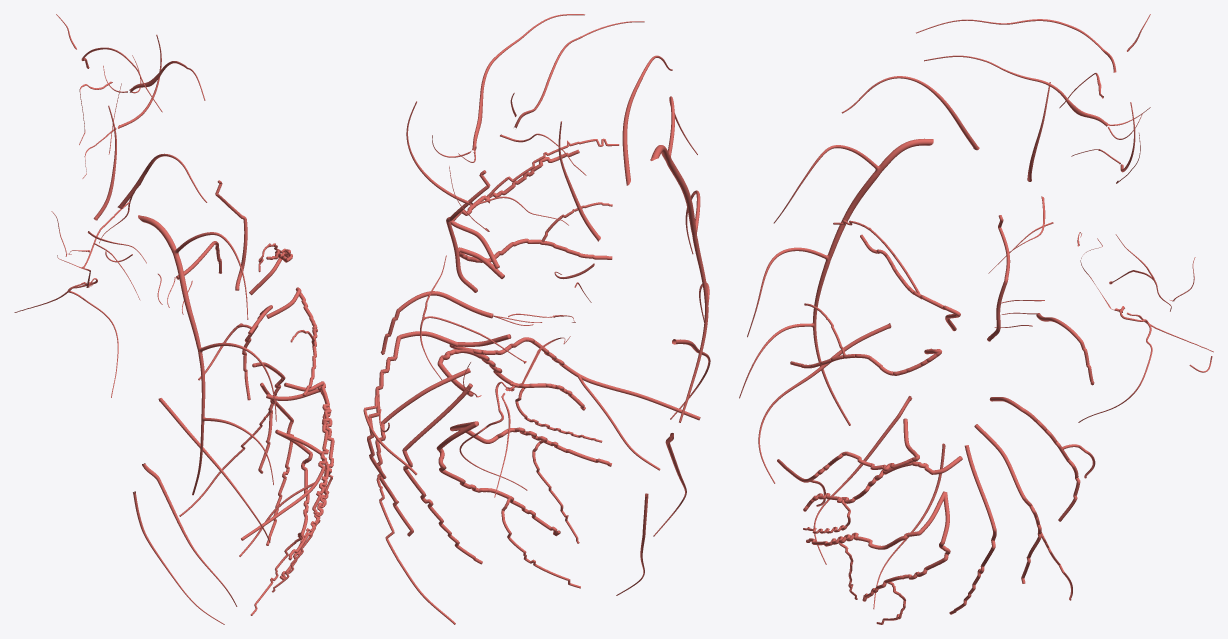
3 views of the same model, side by side, from view 1: azimuth 30°, elevation 25°; view 2: azimuth 150°, elevation 25°; view 3: azimuth 270°, elevation 25° (orthographic). The views are drawn at different scales.
Visible parts, largest first — view 1: Callosomarginal right, Central right, Anterior parietal right, Precentral right, Temporo-occipital right, Angular right, Paracentral right, Posterior parietal right, Posterior temporal right, Precuneal right, MCA orbitofrontal right, ACA frontopolar right (+1 smaller); view 2: Callosomarginal right, Central right, Temporo-occipital right, Anterior parietal right, Angular right, Middle temporal right, Prefrontal right, Precentral right, Posterior temporal right, Posterior parietal right, Anterior temporal right, ACA frontopolar right (+5 smaller); view 3: Callosomarginal right, Central right, Posterior parietal right, Anterior parietal right, Temporo-occipital right, Precentral right, Angular right, Posterior temporal right, Middle temporal right, Paracentral right, Prefrontal right, ACA frontopolar right.
Part boxes in pixels (<box>): Callosomarginal right: <box>138,215,205,495</box>; Central right: <box>241,381,331,540</box>; Anterior parietal right: <box>266,386,334,514</box>; Precentral right: <box>266,287,317,396</box>; Temporo-occipital right: <box>260,382,293,545</box>; Angular right: <box>275,430,312,579</box>; Paracentral right: <box>158,398,270,542</box>; Posterior parietal right: <box>276,429,329,560</box>; Posterior temporal right: <box>252,362,285,473</box>; Precuneal right: <box>142,463,237,606</box>; MCA orbitofrontal right: <box>215,180,247,290</box>; ACA frontopolar right: <box>117,153,207,208</box>; Callosomarginal right: <box>650,145,708,422</box>; Central right: <box>449,334,700,420</box>; Temporo-occipital right: <box>402,383,482,564</box>; Anterior parietal right: <box>437,349,585,410</box>; Angular right: <box>436,422,560,536</box>; Middle temporal right: <box>367,331,458,478</box>; Prefrontal right: <box>450,149,579,268</box>; Precentral right: <box>458,238,612,278</box>; Posterior temporal right: <box>375,368,470,536</box>; Posterior parietal right: <box>450,421,611,466</box>; Anterior temporal right: <box>380,291,493,354</box>; ACA frontopolar right: <box>622,55,672,185</box>; Callosomarginal right: <box>812,138,933,425</box>; Central right: <box>777,418,919,482</box>; Posterior parietal right: <box>806,491,945,549</box>; Anterior parietal right: <box>803,456,962,511</box>; Temporo-occipital right: <box>949,445,996,614</box>; Precentral right: <box>790,348,941,375</box>; Angular right: <box>862,492,950,601</box>; Posterior temporal right: <box>974,424,1041,583</box>; Middle temporal right: <box>989,397,1080,521</box>; Paracentral right: <box>758,323,891,483</box>; Prefrontal right: <box>860,234,960,331</box>; ACA frontopolar right: <box>841,76,979,150</box>.
Bounding box in the file's own units: 61.87 × 160 × 120.
